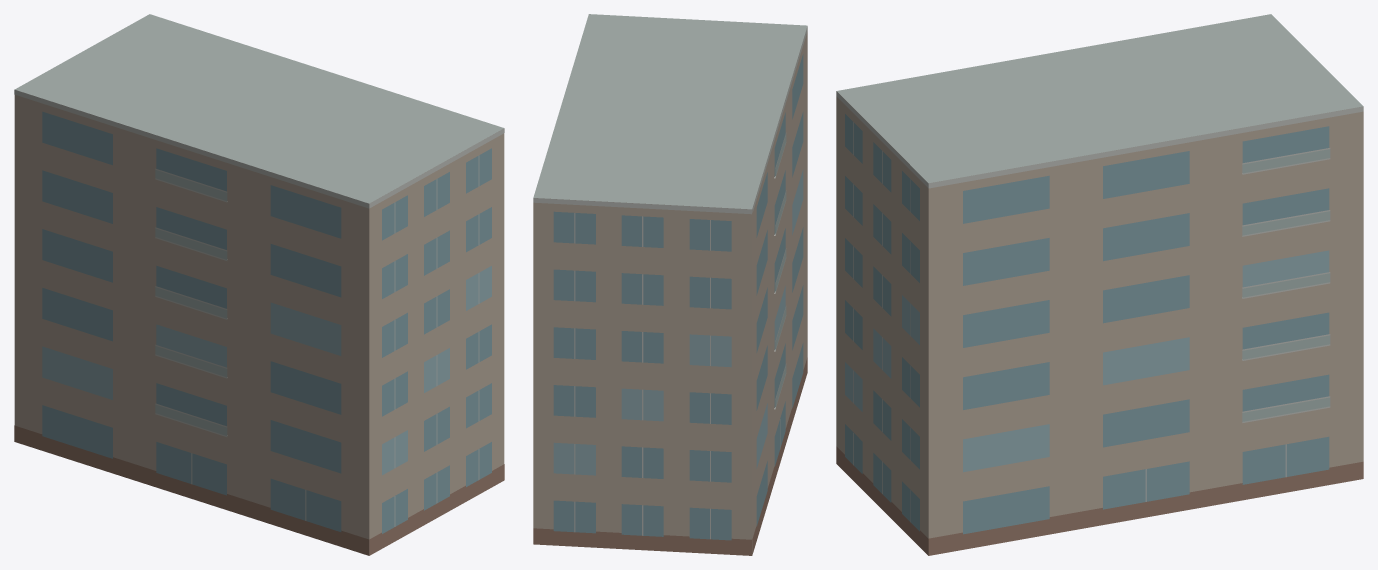
The model's file is survey-upis-32741430.glb.
3 views of the same model, side by side, from view 1: azimuth 30°, elevation 25°; view 2: azimuth 150°, elevation 25°; view 3: azimuth 270°, elevation 25° (orthographic). The views are drawn at different scales.
Parts seen in each view (by area): view 1: survey-upis-32741430.tmp; view 2: survey-upis-32741430.tmp; view 3: survey-upis-32741430.tmp.
Boxes of the visible parts, left/top/right/bottom form: survey-upis-32741430.tmp: left=14, top=14, right=504, bottom=555; survey-upis-32741430.tmp: left=533, top=14, right=807, bottom=555; survey-upis-32741430.tmp: left=836, top=14, right=1363, bottom=555.
Size of the model in its own units: 16.97 by 17.4 by 22.32.
